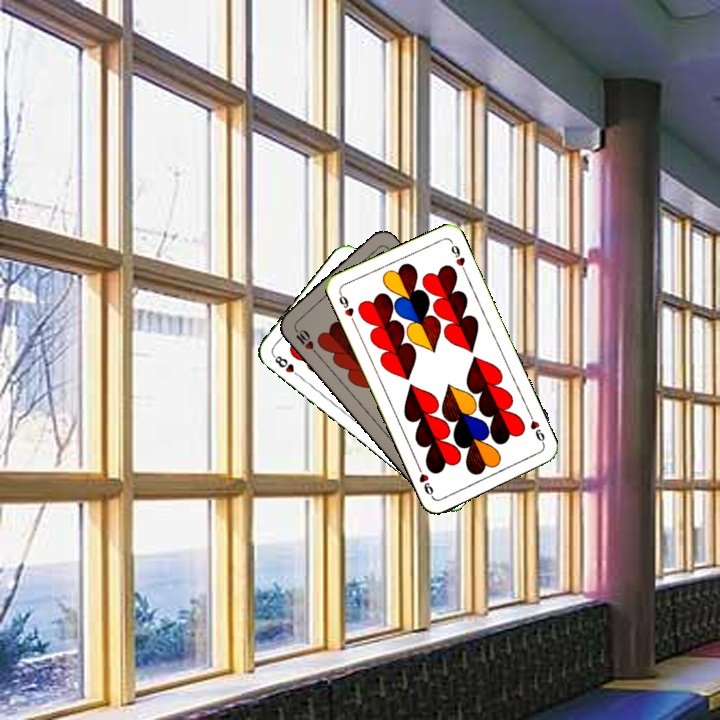H10: (290, 323, 320, 357)
H8: (269, 351, 304, 380)
H9: (335, 288, 358, 327), (525, 410, 547, 448)
